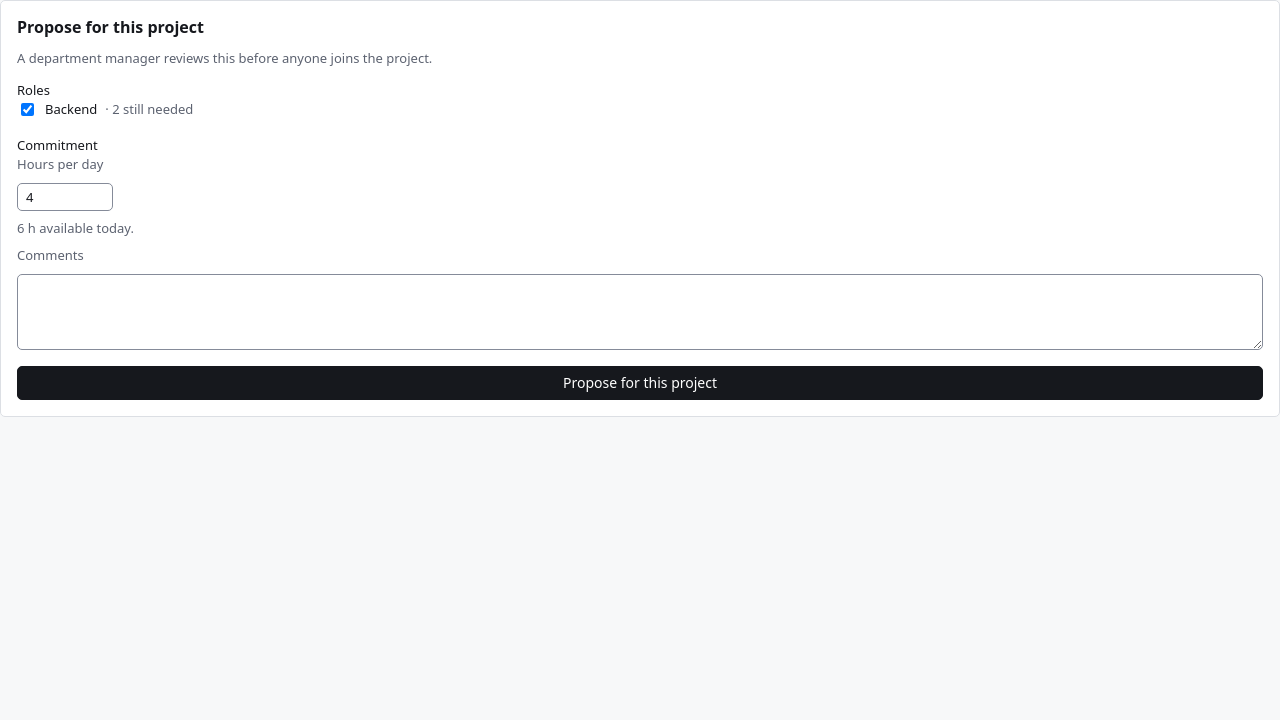
outcomes › links a field error to the field it belongs to
Click the button "Propose for this project".
click(640, 383)  # box [17, 366, 1263, 400]
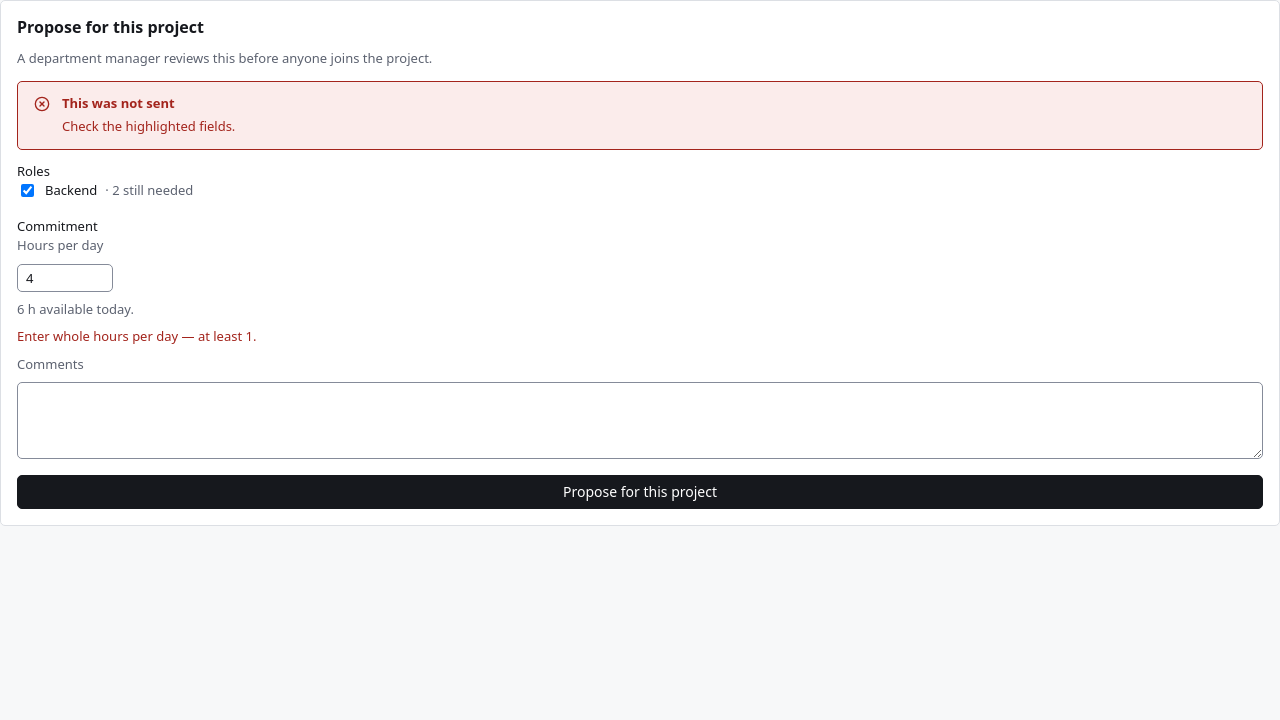
Result: the text "Enter whole hours per day — at least 1." is shown at [17, 327, 256, 345]
